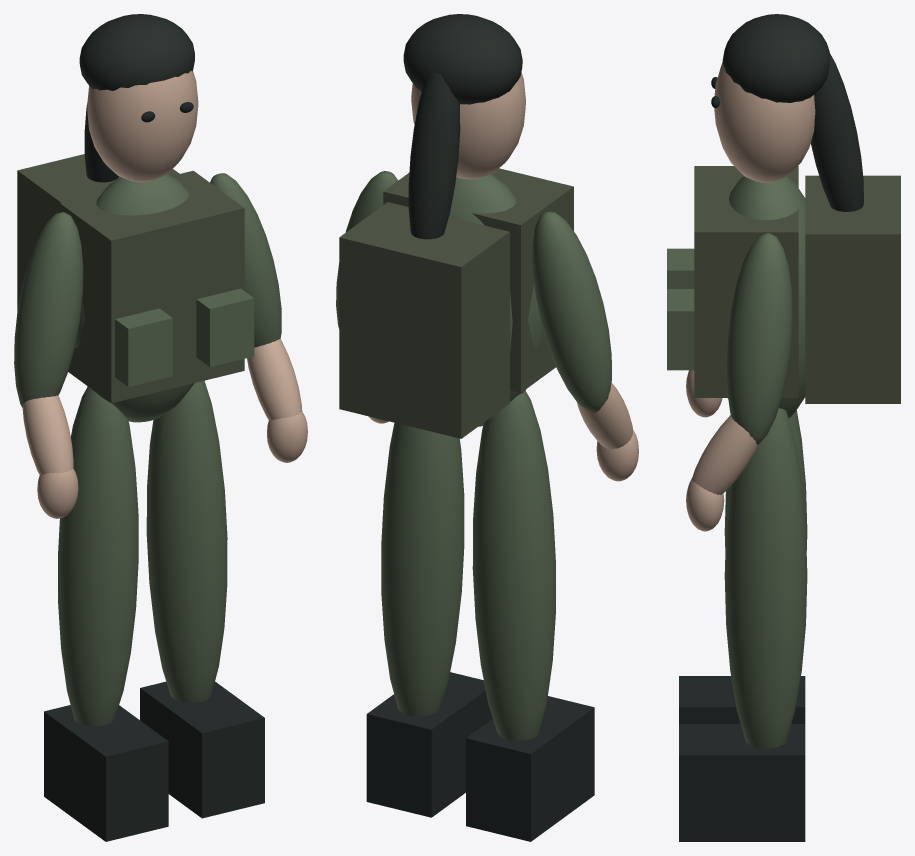
Rendered from maya.glb.
3 views of the same model, side by side, from view 1: azimuth 30°, elevation 25°; view 2: azimuth 150°, elevation 25°; view 3: azimuth 270°, elevation 25° (orthographic). The views are drawn at different scales.
Parts seen in each view (by area): view 1: Vest.001, Trouser leg.002, Trouser leg.003, Boot.002, Boot.003, Sleeve.004, Head.001, Hair cap.001, Backpack.001, Jacket.001, Sleeve.005, Vest pouch.003 (+6 smaller); view 2: Backpack.001, Trouser leg.002, Trouser leg.003, Boot.002, Boot.003, Sleeve.004, Vest.001, Hair cap.001, Ponytail, Head.001, Jacket.001, Forearm.002 (+2 smaller); view 3: Trouser leg.003, Backpack.001, Boot.003, Vest.001, Sleeve.005, Head.001, Hair cap.001, Ponytail, Jacket.001, Boot.002, Forearm.003, Vest pouch.003 (+4 smaller).
Boxes of the visible parts, x1,y1,x2,y2 form: Vest.001: (60, 170, 244, 403); Trouser leg.002: (58, 387, 138, 726); Trouser leg.003: (146, 380, 227, 702); Boot.002: (44, 705, 168, 841); Boot.003: (140, 681, 264, 818); Sleeve.004: (14, 212, 83, 407); Head.001: (87, 70, 198, 182); Hair cap.001: (79, 14, 194, 90); Backpack.001: (17, 154, 179, 310); Jacket.001: (75, 174, 194, 422); Sleeve.005: (210, 173, 281, 347); Vest pouch.003: (196, 288, 254, 366); Backpack.001: (339, 202, 509, 438); Trouser leg.002: (472, 390, 555, 740); Trouser leg.003: (381, 422, 464, 716); Boot.002: (466, 696, 594, 841); Boot.003: (366, 672, 492, 817); Sleeve.004: (532, 211, 611, 412); Vest.001: (383, 168, 573, 392); Hair cap.001: (403, 14, 522, 104); Ponytail: (408, 72, 460, 239); Head.001: (411, 72, 525, 179); Jacket.001: (448, 174, 542, 426); Forearm.002: (577, 383, 632, 449); Trouser leg.003: (724, 408, 807, 748); Backpack.001: (805, 175, 900, 403); Boot.003: (679, 724, 805, 841); Vest.001: (694, 166, 798, 397); Sleeve.005: (726, 233, 792, 444); Head.001: (714, 62, 815, 182); Hair cap.001: (722, 14, 829, 102); Ponytail: (811, 53, 863, 211); Jacket.001: (727, 176, 806, 417); Boot.002: (679, 676, 805, 723); Forearm.003: (692, 415, 758, 494); Vest pouch.003: (667, 289, 694, 370).
Bounding box in the file's own units: 0.72 × 1.98 × 0.5375.
